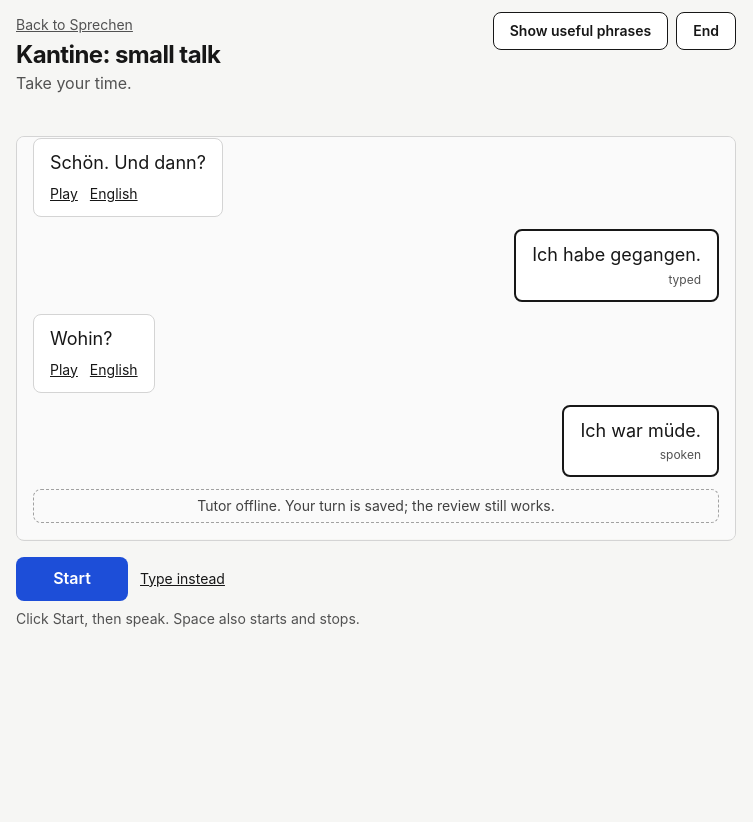
Test case: chat session › End shows a patient grading card while the review runs
This screenshot has width=753, height=822.
(page scrolled)
Click the button with aria-label "End and review". click: (706, 31)
box: [676,12,736,50]
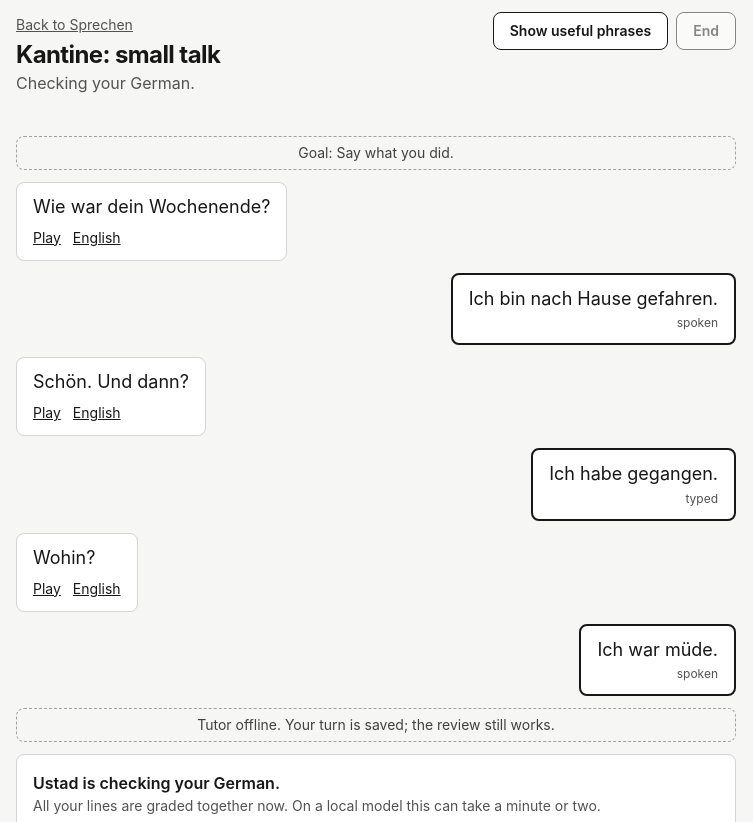
Check: the text "Ustad is checking your German." is shown, box [33,773,280,793]
Check: the button "Start" is gone
